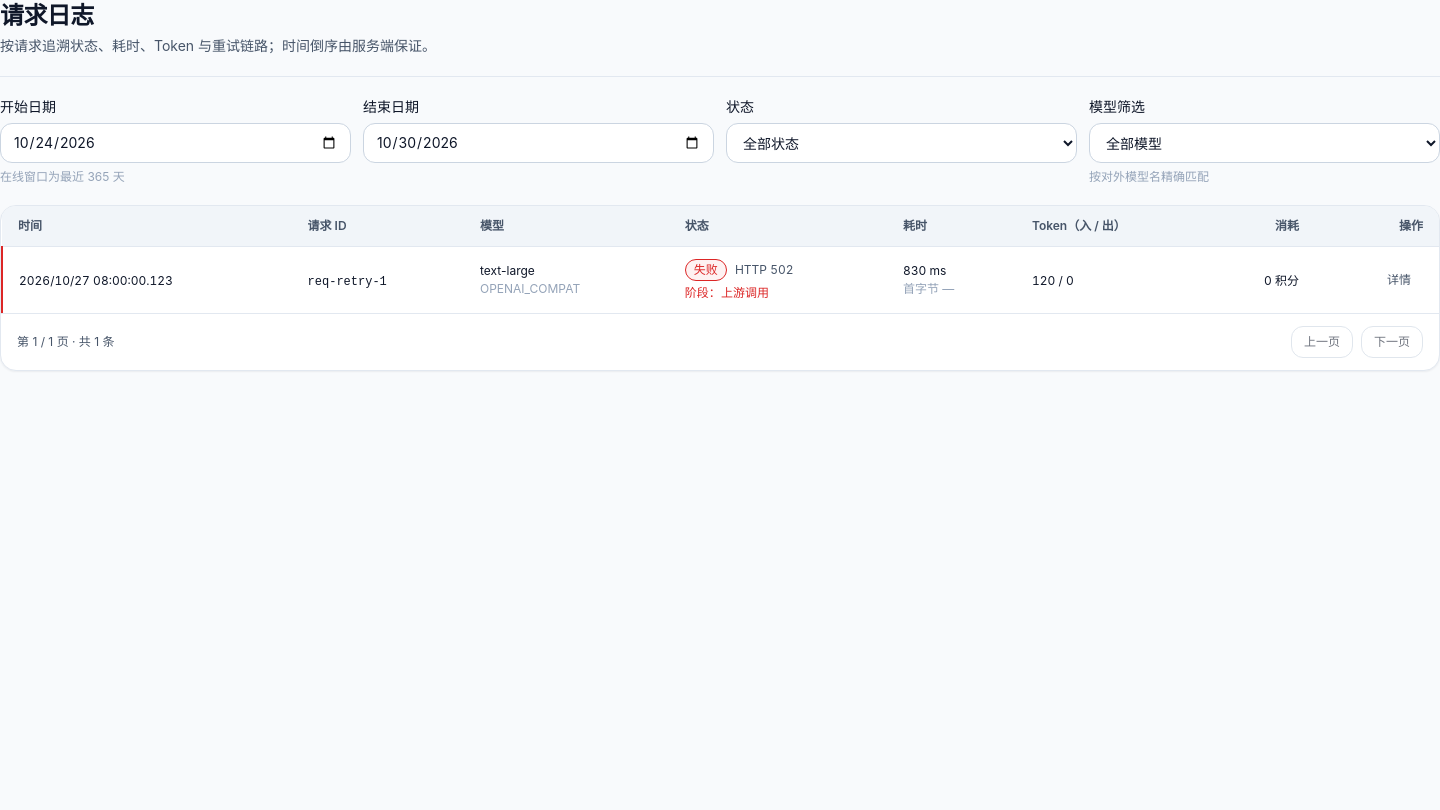
LogsPage › F11-2: one retry renders two attempt rows with their own latency and result
The image size is (1440, 810).
Expected: the text "阶段：上游调用" is shown, 685,285 -> 769,300
Step 1. Click the button "详情" → (1399, 280), box 1375,264 -> 1423,296
(page scrolled)
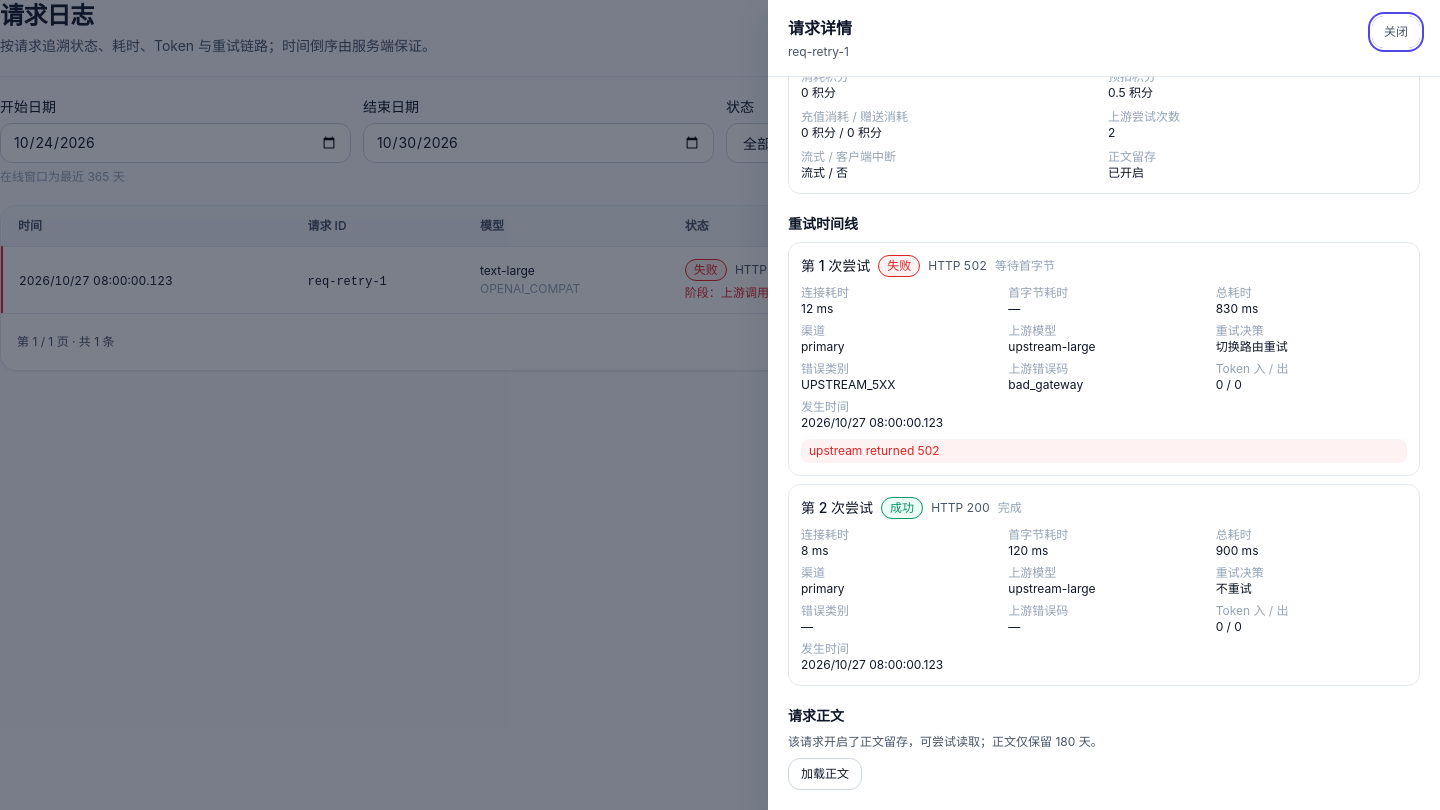
Expected: the number of list items is 2, 788,242 -> 1420,476; 788,484 -> 1420,686
Expected: the text "第 1 次尝试" is shown, 801,256 -> 870,276
Expected: the text "HTTP 502" is shown, 928,258 -> 987,274
